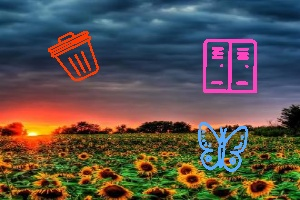垃圾桶: (46, 31, 99, 79)
对开门: (202, 38, 258, 95)
蝴蝶: (198, 122, 246, 172)
